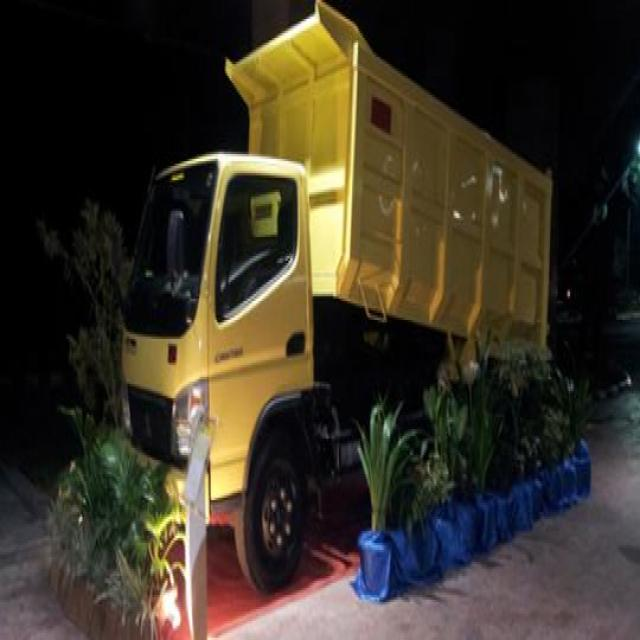truck: (124, 9, 554, 588)
